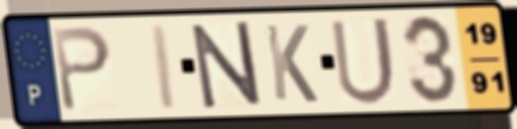3: (399, 12, 461, 108)
I: (147, 21, 181, 114)
K: (262, 21, 321, 106)
N: (188, 18, 265, 113)
P: (49, 24, 115, 115)
U: (327, 14, 399, 108)
